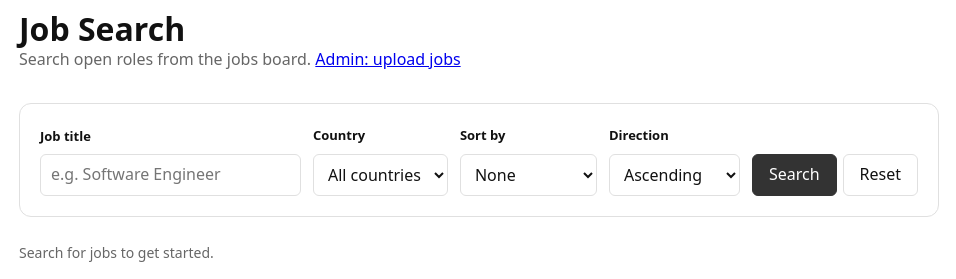
App › shows an error message when the fetch fails
Click the button "Search". click: (794, 175)
box: [752,154,836,196]
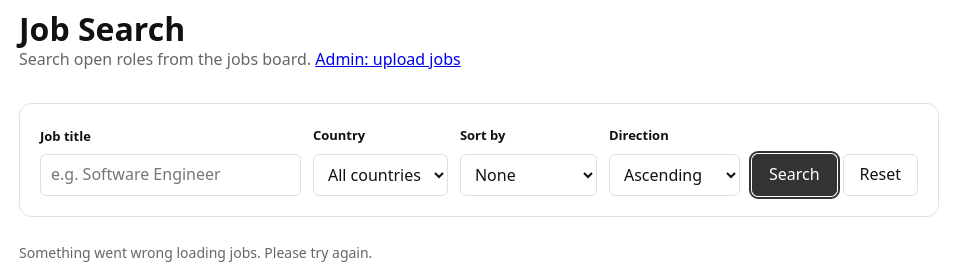
expect the message reads "Something went wrong loading jobs. Please try again.": met, box [19,243,372,262]
